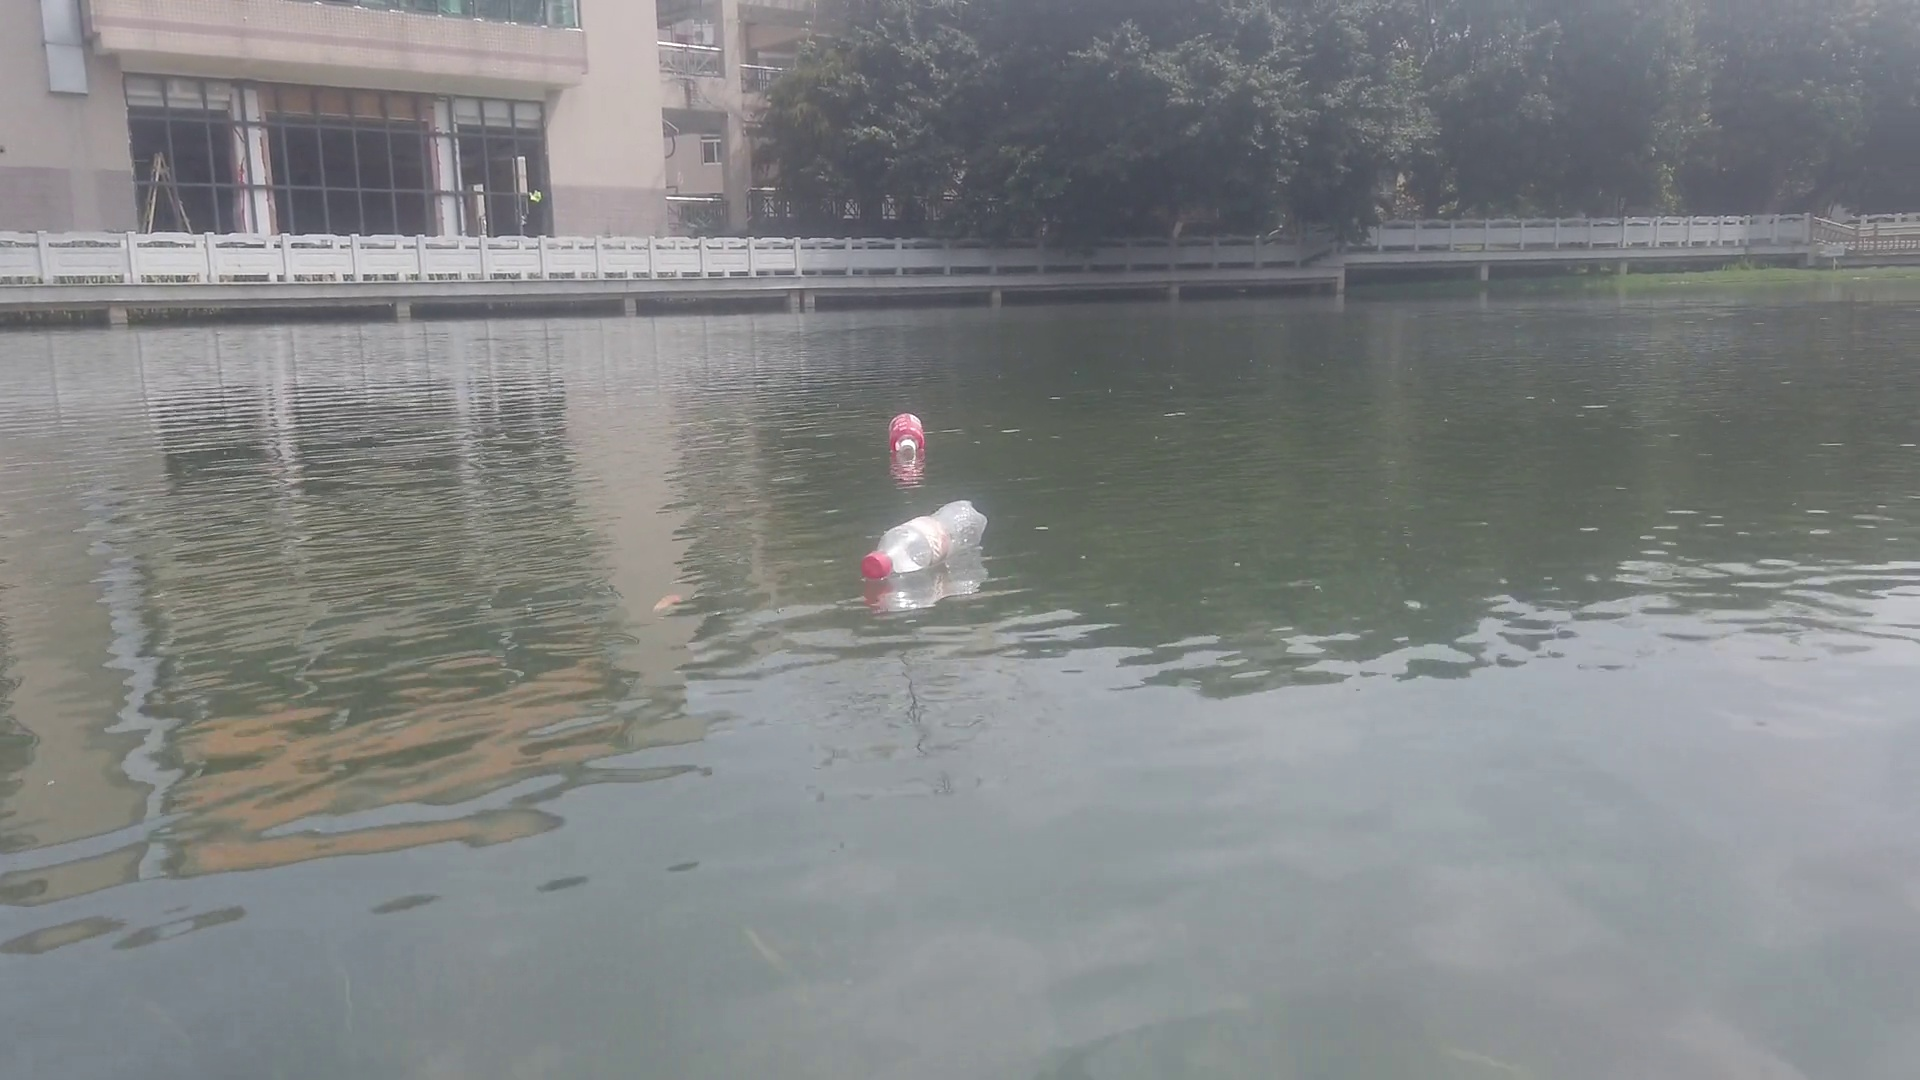bottle: (862, 496, 986, 574), (890, 411, 924, 462)
